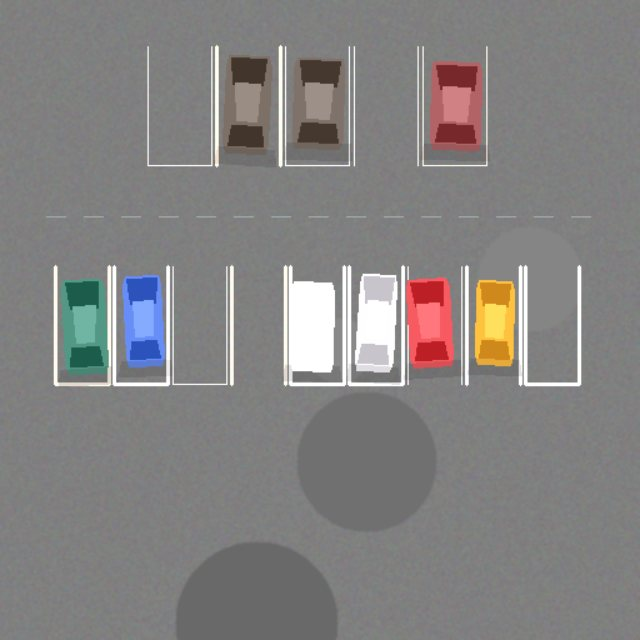space-empty: (147, 46, 211, 165), (354, 46, 417, 165), (172, 266, 226, 384), (231, 266, 285, 384), (525, 266, 579, 384)
space-occupied: (216, 46, 280, 165), (285, 46, 349, 165), (423, 46, 486, 165), (55, 266, 109, 384), (114, 266, 168, 384), (290, 266, 344, 384), (466, 266, 520, 384), (349, 266, 402, 384), (408, 266, 461, 384)
